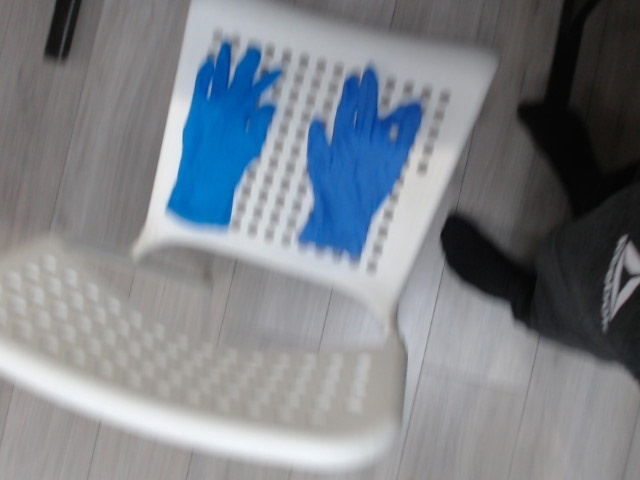medical_glove: (297, 69, 420, 249), (166, 43, 281, 227)
